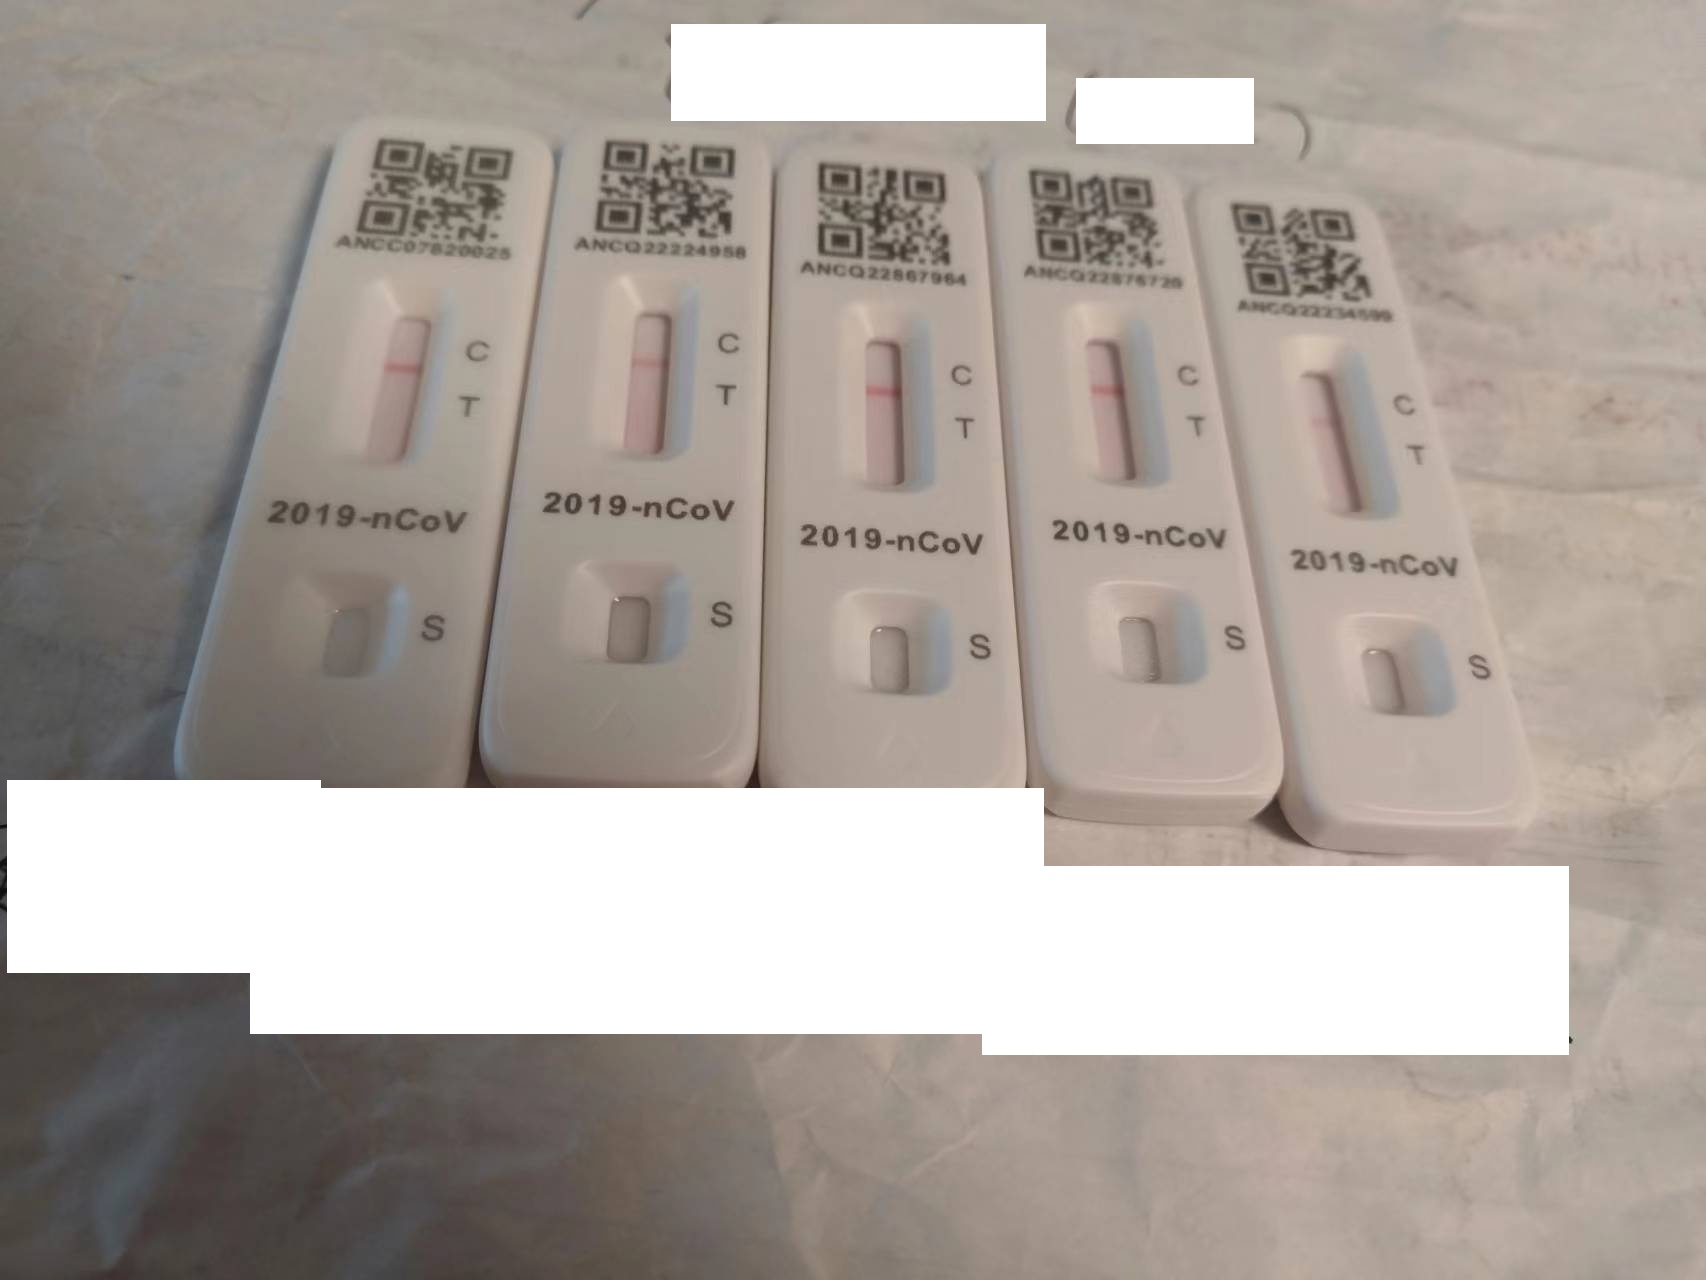negative: (1283, 342, 1385, 520), (600, 284, 692, 465), (1067, 309, 1159, 492), (848, 313, 928, 500), (354, 308, 445, 467)
